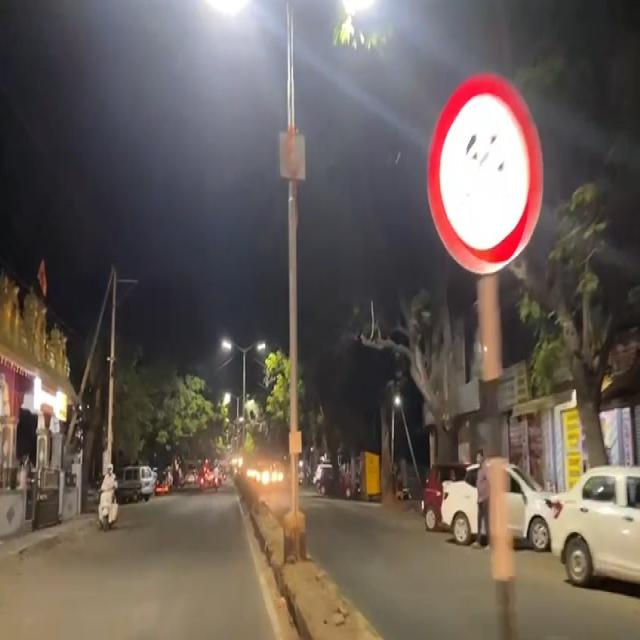bien_cam: (427, 64, 546, 282)
